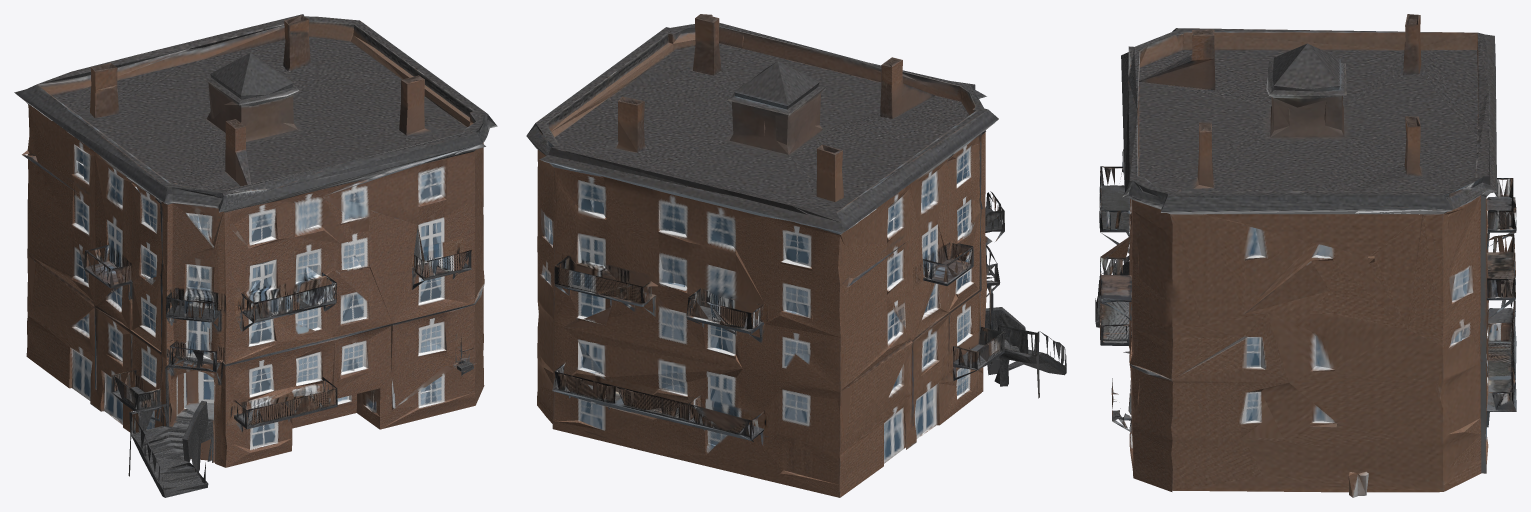
The model's file is flats.glb.
3 renders of one model, left to right at view 1: azimuth 30°, elevation 25°; view 2: azimuth 150°, elevation 25°; view 3: azimuth 270°, elevation 25°, orthographic. The views are drawn at different scales.
Bounding box in the file's own units: 1.9 × 1.62 × 1.72.
Materials: 1 (1 with a texture image).
